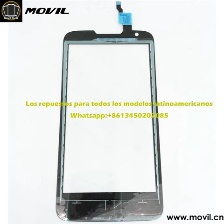phone: (53, 27, 166, 223)
